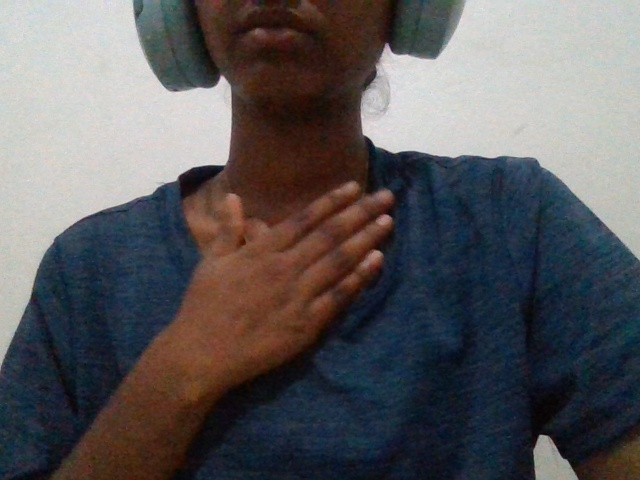Please: (136, 165, 444, 398)
